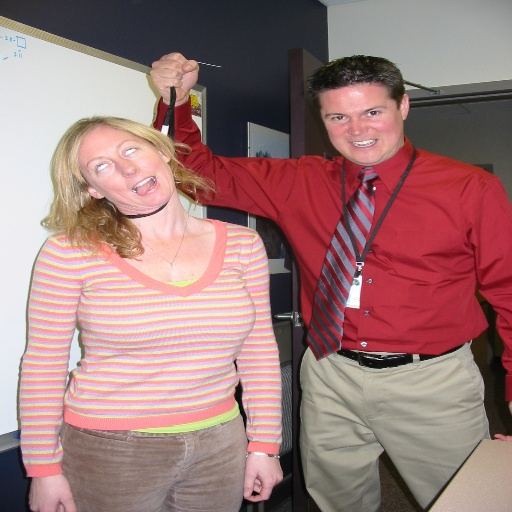hand: (139, 50, 202, 100), (244, 450, 285, 504), (28, 471, 78, 511), (493, 434, 511, 440)
